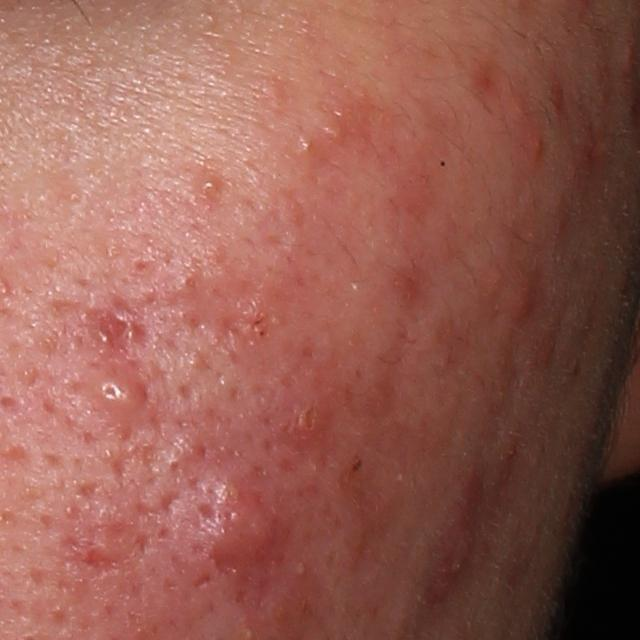atrophic_scar: (360, 257, 439, 431), (74, 545, 122, 578)
nodule: (409, 442, 501, 627), (186, 470, 290, 572)
papule: (288, 398, 329, 443), (502, 267, 531, 323)
pustule: (78, 363, 152, 419)
